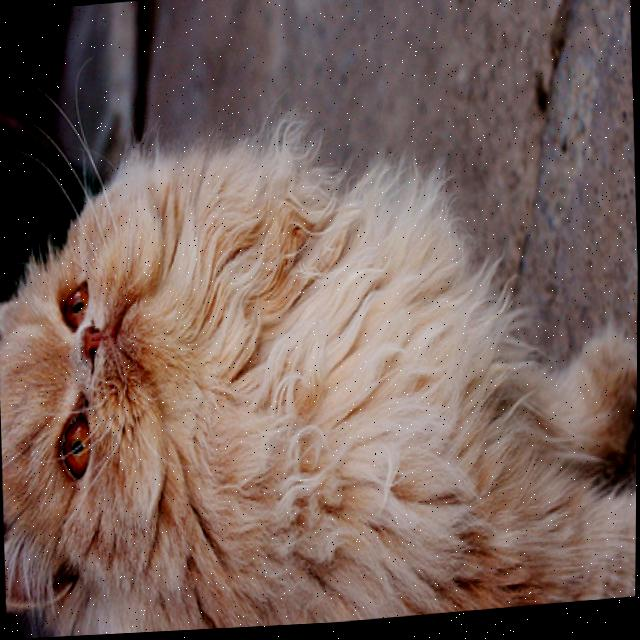Persian: (0, 101, 639, 640)
